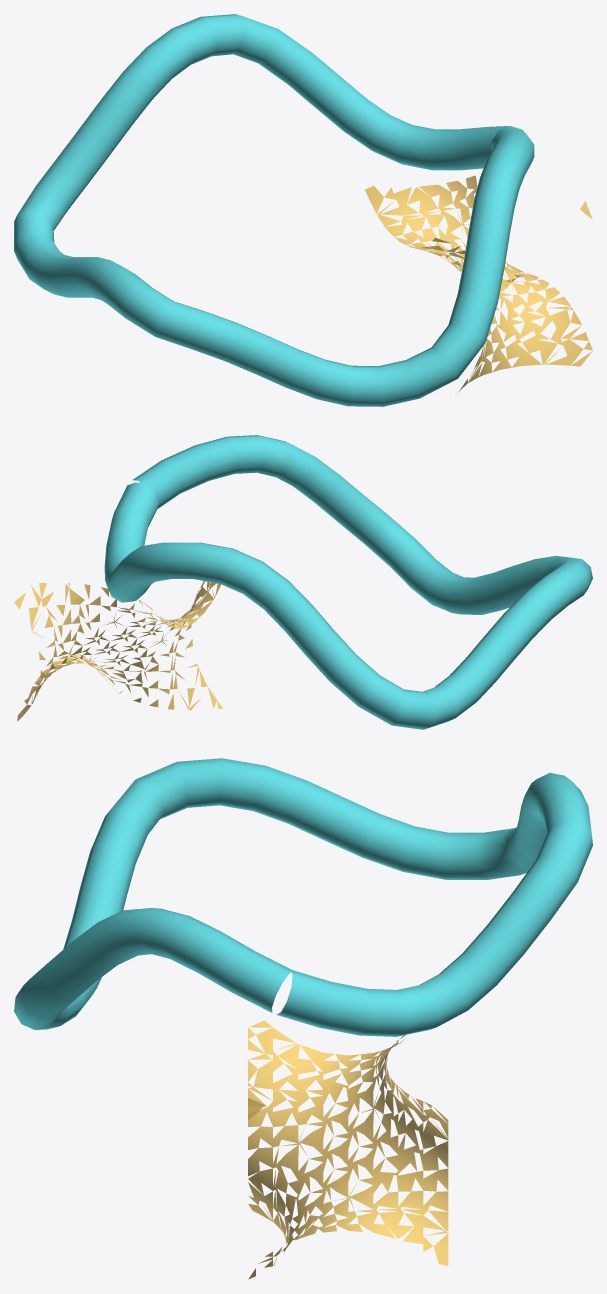
The model's file is sandbox_scene.gltf.
3 views of the same model, one above another, from view 1: azimuth 30°, elevation 25°; view 2: azimuth 150°, elevation 25°; view 3: azimuth 270°, elevation 25° (orthographic). The views are drawn at different scales.
Parts seen in each view (by area): view 1: sculpture, gyroid_panel; view 2: sculpture, gyroid_panel; view 3: sculpture, gyroid_panel.
Part boxes in pixels (x1=…): sculpture: x1=14, y1=14, x2=534, y2=406; gyroid_panel: x1=365, y1=175, x2=592, y2=393; sculpture: x1=104, y1=435, x2=592, y2=729; gyroid_panel: x1=14, y1=581, x2=222, y2=721; sculpture: x1=14, y1=758, x2=592, y2=1036; gyroid_panel: x1=248, y1=1020, x2=448, y2=1279.
Bounding box in the file's own units: 4 × 2.33 × 3.47.
